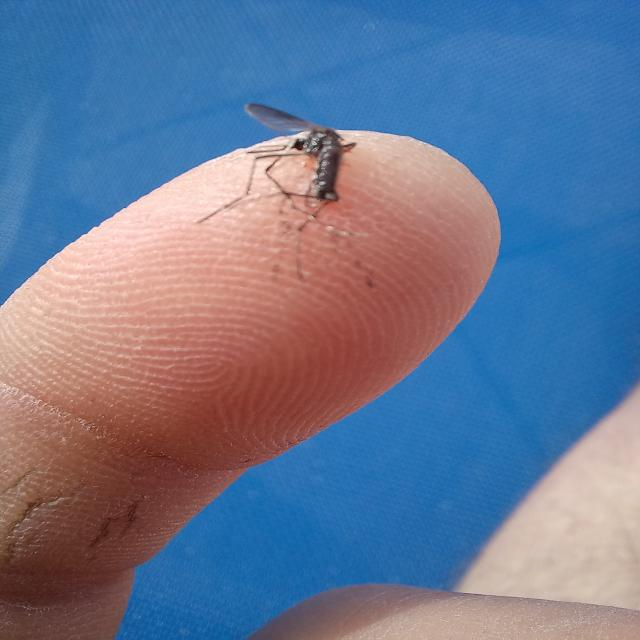albopictus: (185, 99, 362, 279)
